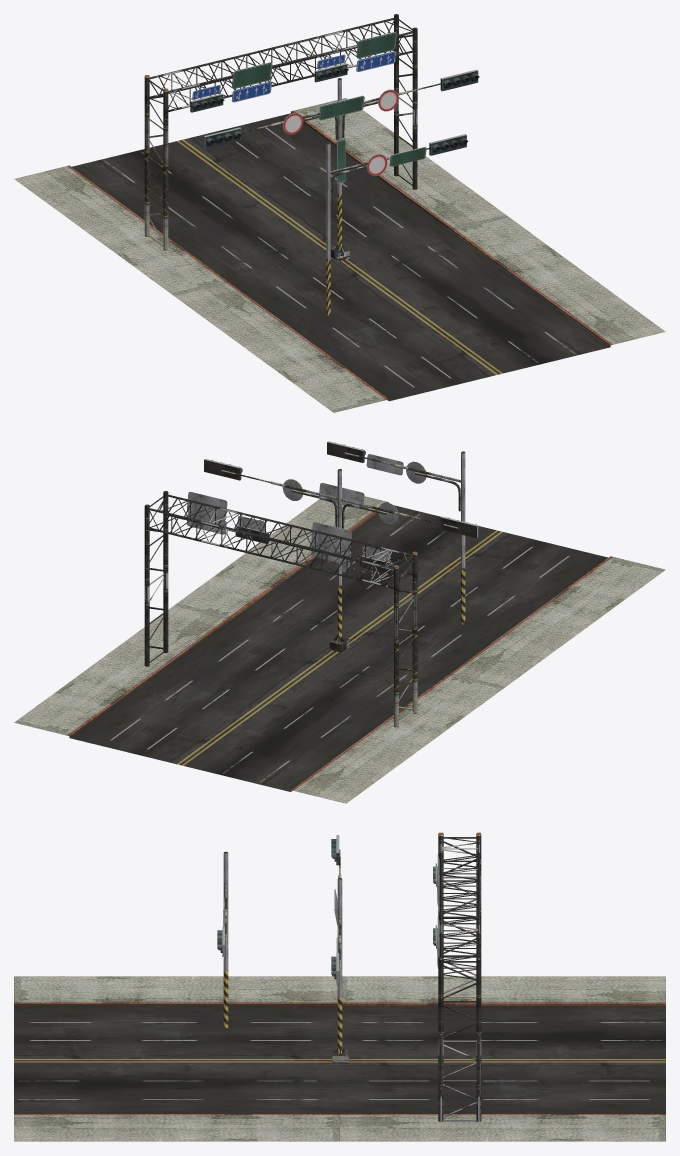
The model's file is road_traffic_sign.glb.
The picture shows the model from 3 angles, top to bottom: view 1: azimuth 30°, elevation 25°; view 2: azimuth 150°, elevation 25°; view 3: azimuth 270°, elevation 25°; orthographic projection.
Visible parts, largest first — view 1: road_03, hang_04, hang_04_1, m_light1, s_light_1, m_light1_1; view 2: road_03, hang_04, hang_04_1, m_light1, s_light_1, m_light1_1; view 3: road_03, hang_04, m_light1, s_light_1, m_light1_1, hang_04_1.
Part boxes in pixels (x1,y1,x2,y2): road_03: [14, 98, 665, 412]; hang_04: [144, 14, 417, 250]; hang_04_1: [190, 32, 396, 112]; m_light1: [204, 69, 479, 250]; s_light_1: [326, 134, 468, 315]; m_light1_1: [241, 83, 440, 261]; road_03: [14, 496, 665, 803]; hang_04: [144, 491, 417, 727]; hang_04_1: [186, 492, 393, 574]; m_light1: [204, 458, 479, 641]; s_light_1: [327, 441, 465, 624]; m_light1_1: [221, 470, 458, 652]; road_03: [14, 976, 665, 1141]; hang_04: [438, 832, 481, 1121]; m_light1: [331, 835, 342, 1053]; s_light_1: [217, 851, 228, 1028]; m_light1_1: [332, 849, 348, 1063]; hang_04_1: [433, 854, 439, 968].
Size of the model in its own units: 334 by 171 by 556.
1 material, 1 textured.
